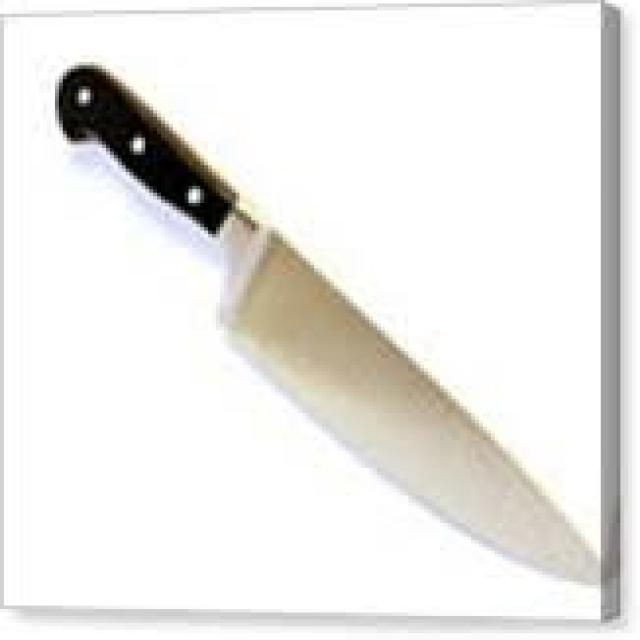Knife: (51, 62, 597, 585)
